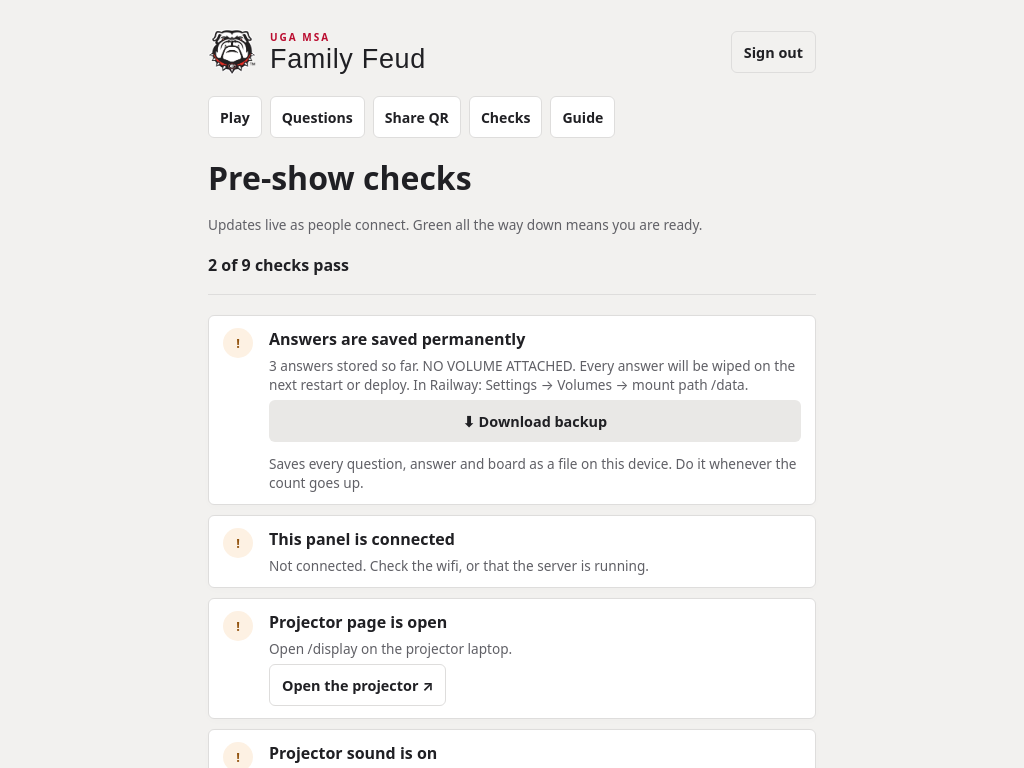
Test: ChecksPage › warns loudly without a volume and downloads a backup
Expected: the text "NO VOLUME ATTACHED" is shown, [269, 356, 795, 394]
What coordinates should you click on to do the following:
click the button "⬇ Download backup"
I would click on:
 (535, 421)
Its box is [269, 400, 801, 442].
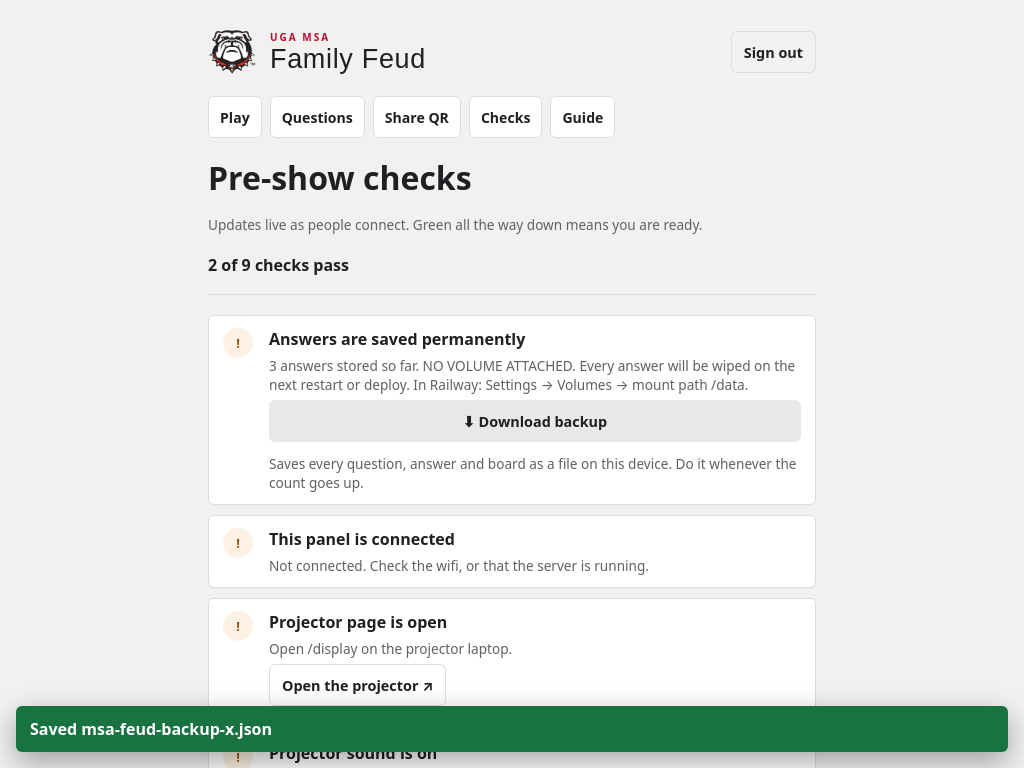
Expected: the text "Saved msa-feud-backup-x.json" is shown, [16, 706, 1008, 752]
